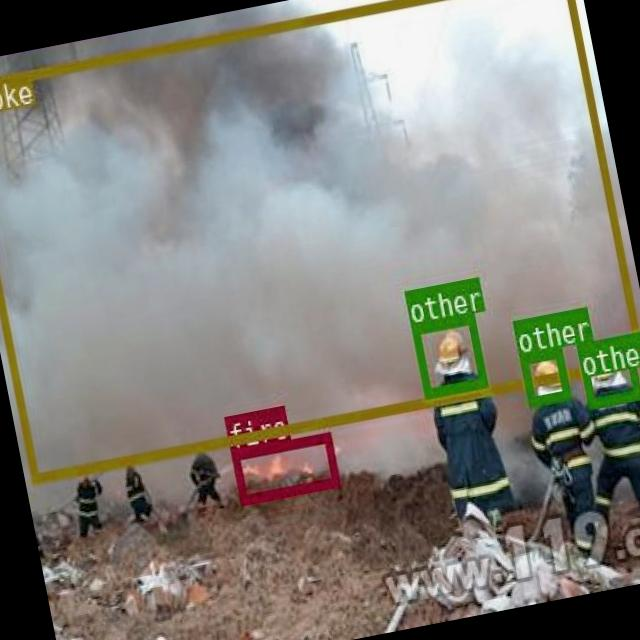fire: (230, 431, 339, 503)
smoke: (0, 0, 640, 483)
